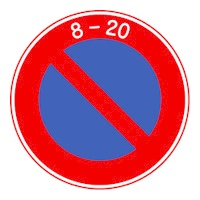Prohibition_sign: (4, 4, 197, 194)
